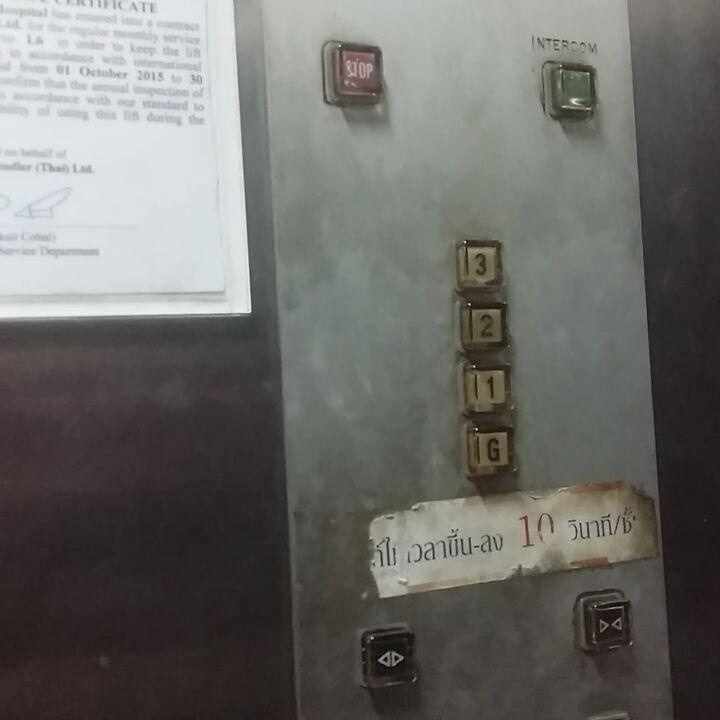1: (457, 359, 516, 417)
2: (454, 296, 512, 352)
3: (453, 237, 506, 292)
G: (459, 417, 518, 479)
close: (575, 589, 633, 656)
empty: (540, 58, 598, 122)
open: (354, 622, 421, 690)
text_stop: (321, 38, 387, 110)
